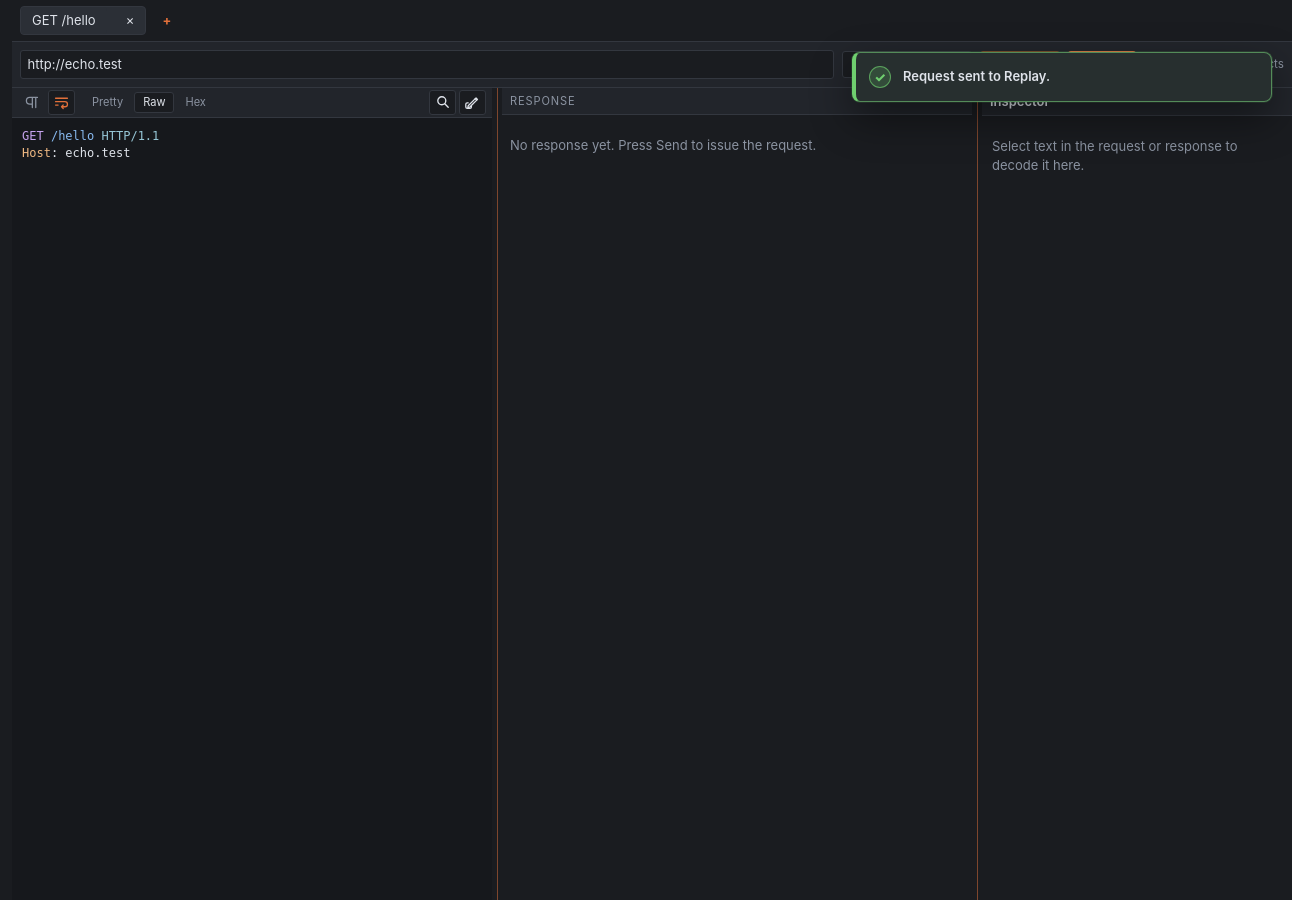
Test case: ReplayTab › follows one redirect on demand and keeps both exchanges
This screenshot has width=1292, height=900.
Expected: the text box named "request" is shown, x1=12 y1=118 x2=492 y2=899
Click the button "Send". click: (1102, 65)
box: x1=1068 y1=50 x2=1136 y2=79
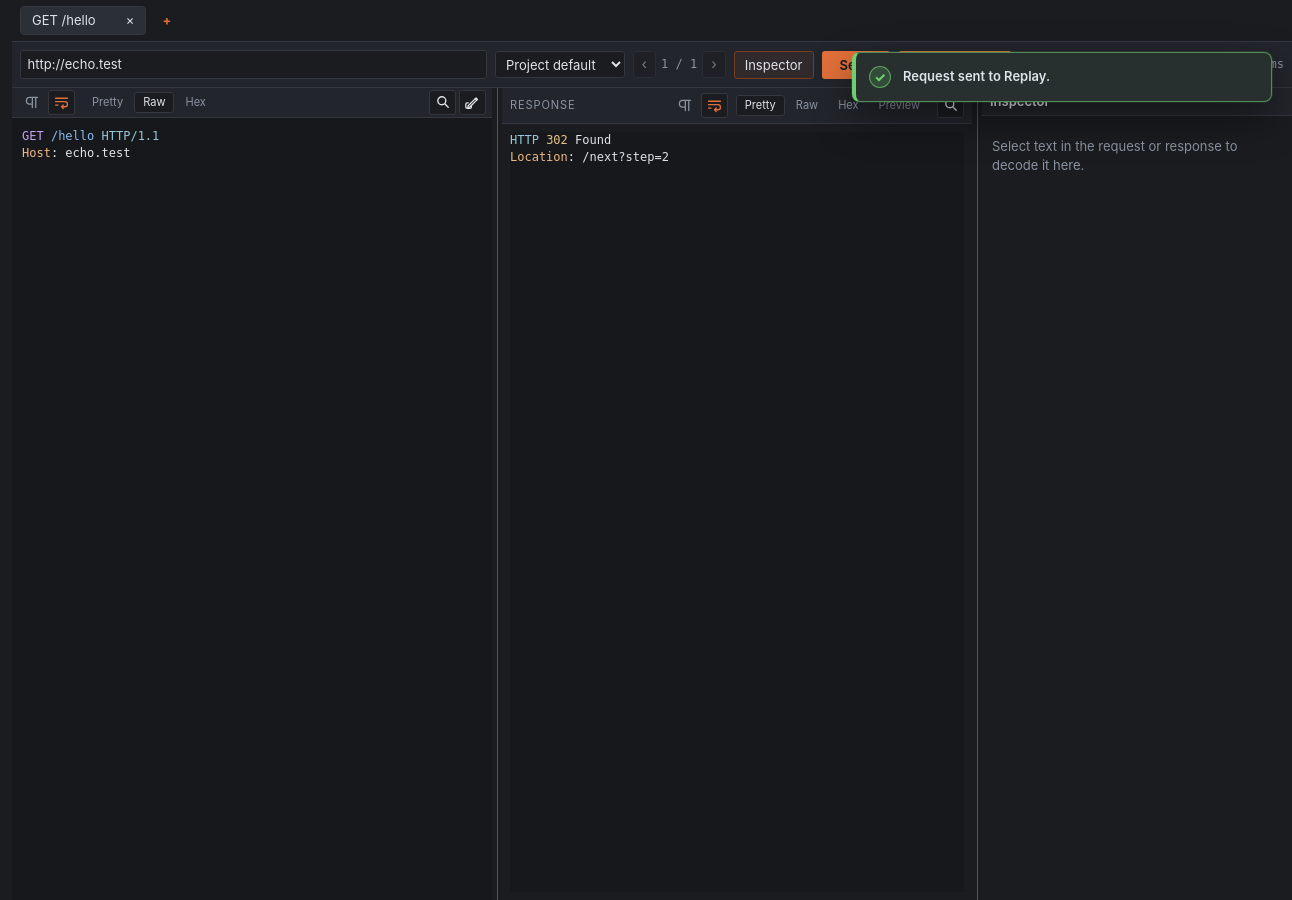
Click the button "Follow redirect". click: (955, 65)
box: x1=898 y1=50 x2=1012 y2=79
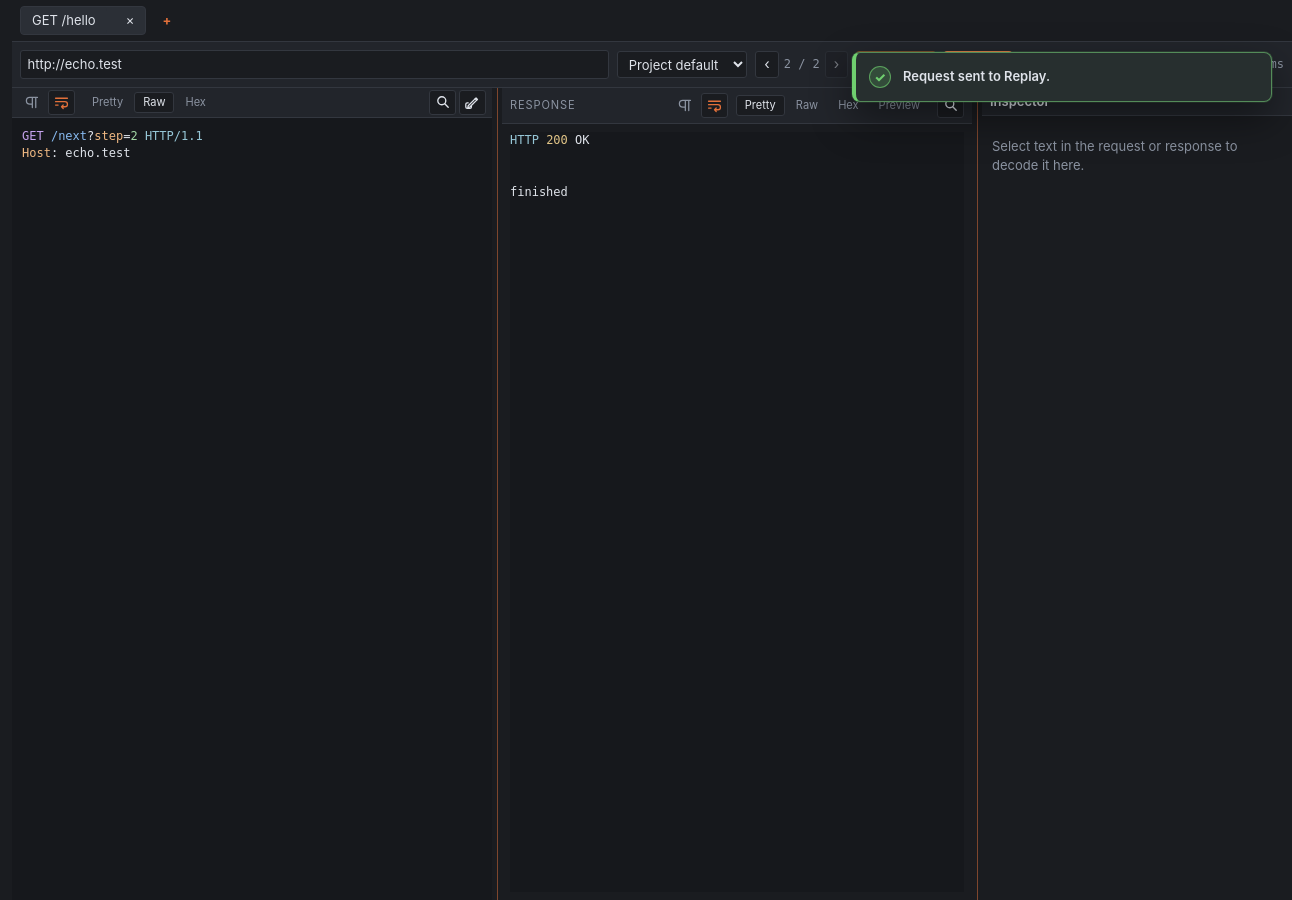
Expected: the text "HTTP 200 OK finished" is shown, x1=510 y1=133 x2=590 y2=199
